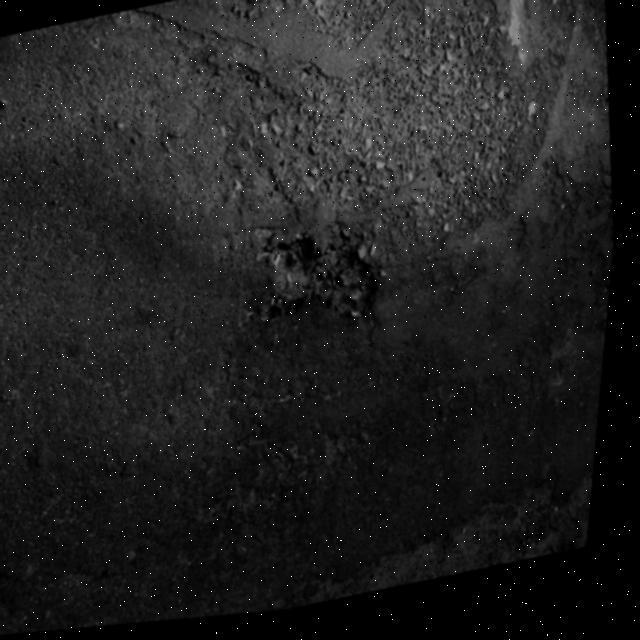pothole: (229, 204, 405, 362)
